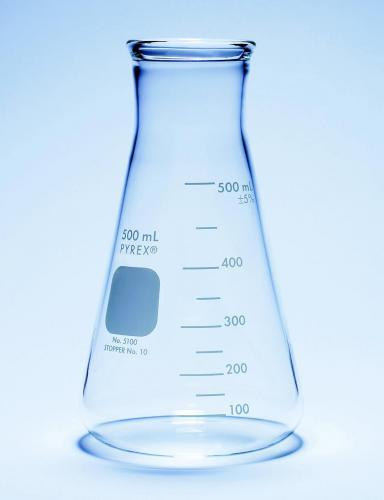Titrarion: (72, 29, 310, 455)
